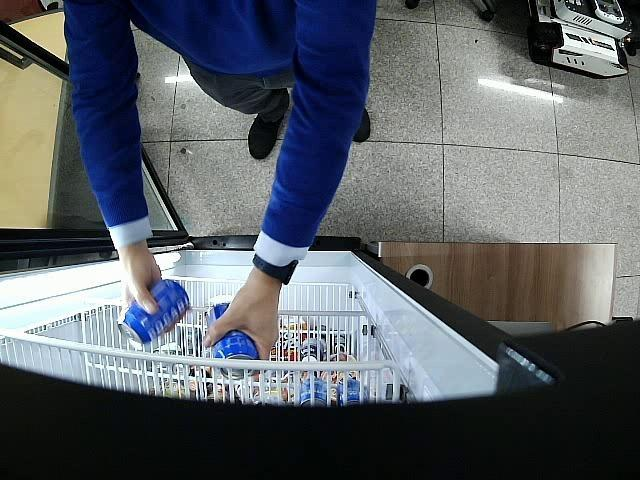13_pocariSweat: (117, 280, 190, 343), (206, 302, 258, 380)
